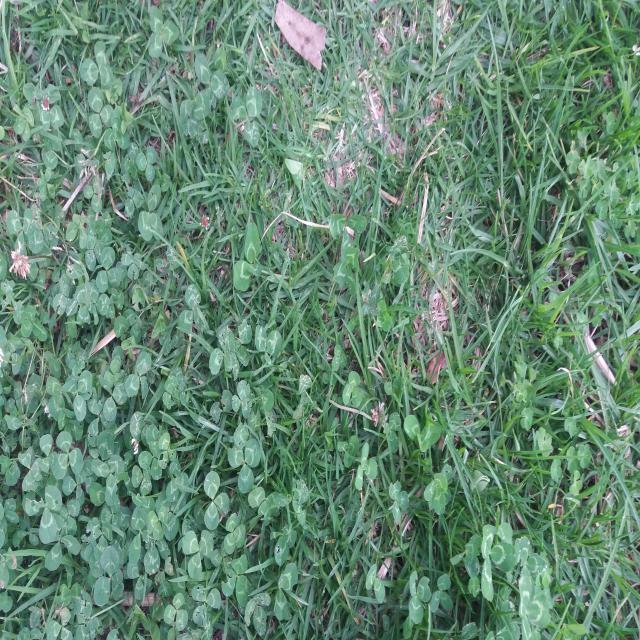Four Leaf Clover: (362, 284, 381, 317)
